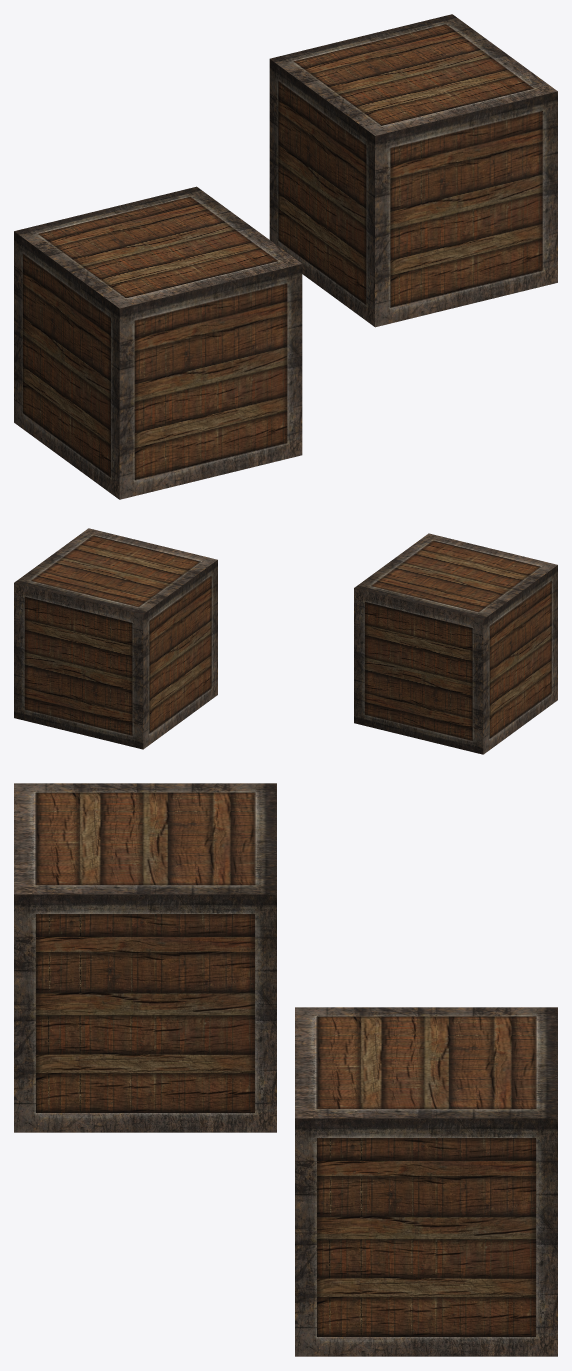
Rendered from cubes.fbx.
3 views of the same model, one above another, from view 1: azimuth 30°, elevation 25°; view 2: azimuth 150°, elevation 25°; view 3: azimuth 270°, elevation 25° (orthographic). The views are drawn at different scales.
Visible parts, largest first — view 1: pCube1, pCube2; view 2: pCube1, pCube2; view 3: pCube1, pCube2.
Part boxes in pixels (x1,y1,x2,y2): pCube1: [14, 186, 302, 499]; pCube2: [269, 14, 557, 327]; pCube1: [354, 533, 557, 754]; pCube2: [14, 528, 217, 749]; pCube1: [14, 783, 276, 1132]; pCube2: [295, 1007, 557, 1356].
Size of the model in its own units: 1.43 by 0.4759 by 0.9846.
Materials: 1 (1 with a texture image).
